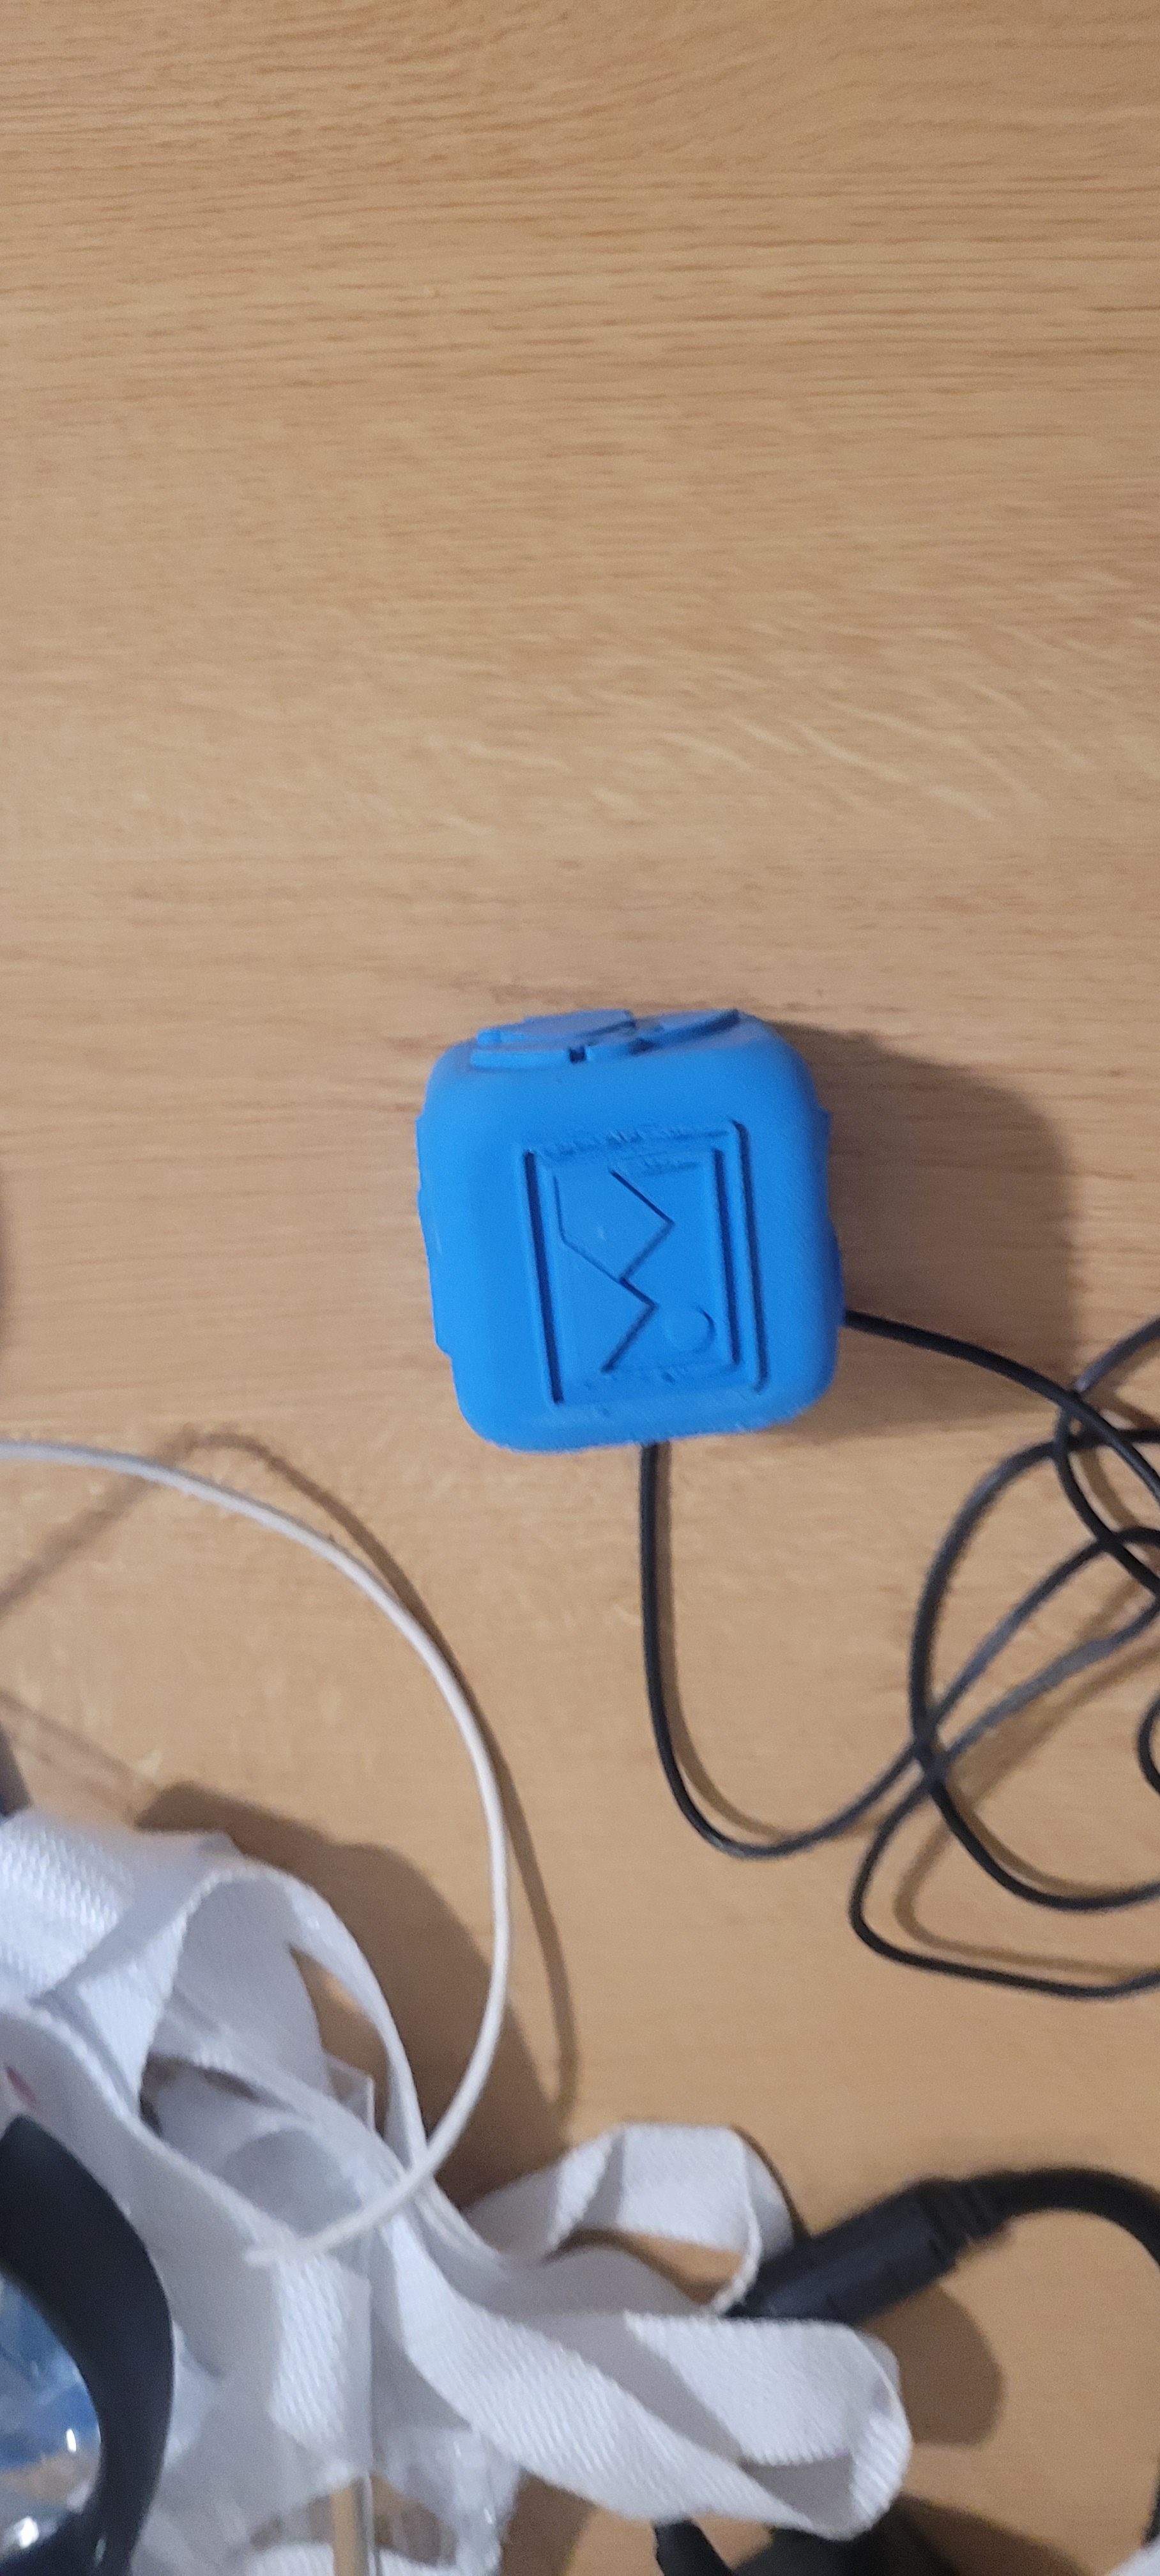Story: (490, 1138, 780, 1424)
